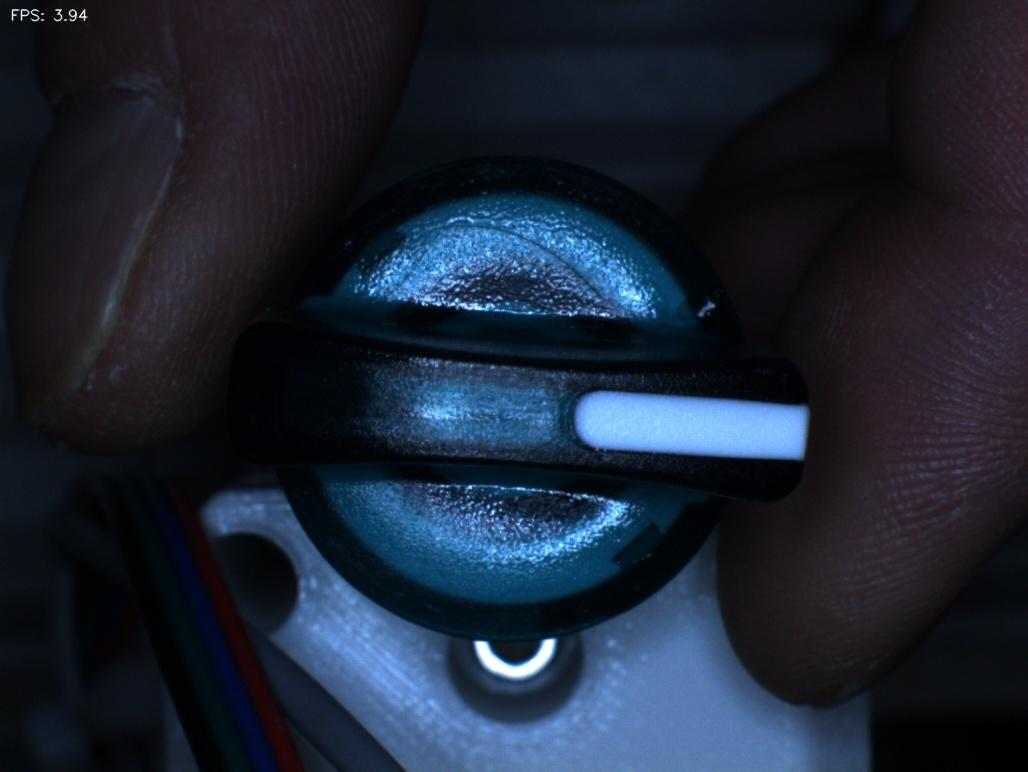Choc: (660, 252, 744, 343)
